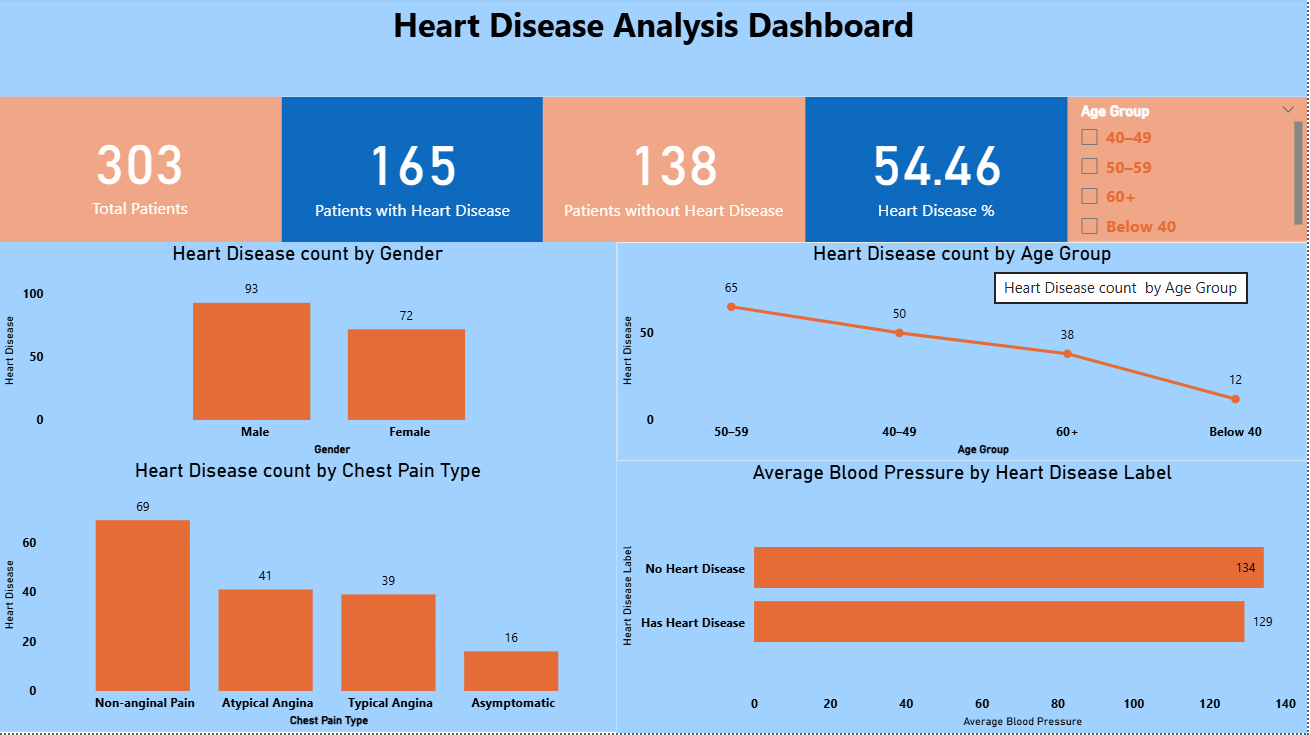

The dashboard page shown, as its layout file describes it:
{"tool":"powerbi","page":{"name":"Dashbaord","canvas":[1280,720],"ordinal":1},"visuals":[{"type":"card","fields":{"Values":["heart.Total Patients"]},"box":[0,96.8,276.2,143],"z":0},{"type":"card","fields":{"Values":["heart.Patients with Heart Disease"]},"box":[275.8,97.4,256.6,142.7],"z":1000},{"type":"card","fields":{"Values":["heart.Patients without Heart Disease"]},"box":[532.4,97.4,256.6,142.7],"z":2000},{"type":"card","fields":{"Values":["heart.Heart Disease %"]},"box":[789,97.4,256.6,142.7],"z":3000},{"type":"clusteredColumnChart","title":"Heart Disease count by Gender","fields":{"Category":["heart.Gender"],"Y":["heart.Patients with Heart Disease"]},"box":[0,240.1,603.8,214.1],"z":4000},{"type":"lineChart","title":"Heart Disease count  by Age Group","fields":{"Category":["heart.Age Group"],"Y":["heart.Patients with Heart Disease"]},"box":[603.8,240.1,676.5,214.1],"z":5000},{"type":"clusteredColumnChart","title":"Heart Disease count by Chest Pain Type","fields":{"Category":["heart.Chest Pain Type"],"Y":["heart.Patients with Heart Disease"]},"box":[0,452.9,604.4,266.4],"z":6000},{"type":"barChart","fields":{"Category":["heart.Heart Disease Label"],"Y":["heart.Average Blood Pressure"]},"box":[603.8,454.2,676.5,266.2],"z":7000},{"type":"slicer","fields":{"Values":["heart.Age Group"]},"box":[1045.5,97.8,234.8,141.8],"z":8000},{"type":"textbox","box":[0,0,1280.3,97.4],"z":9000}]}

Visuals, with their boxes in screenshot pixels (x1, y1, x2, y2), scaled from the page's 1280x720 canvas onto the 1310x735 screenshot:
card - heart.Total Patients: (x1=0, y1=99, x2=283, y2=245)
card - heart.Patients with Heart Disease: (x1=282, y1=99, x2=545, y2=245)
card - heart.Patients without Heart Disease: (x1=545, y1=99, x2=807, y2=245)
card - heart.Heart Disease %: (x1=807, y1=99, x2=1070, y2=245)
"Heart Disease count by Gender" clusteredColumnChart: (x1=0, y1=245, x2=618, y2=464)
"Heart Disease count  by Age Group" lineChart: (x1=618, y1=245, x2=1309, y2=464)
"Heart Disease count by Chest Pain Type" clusteredColumnChart: (x1=0, y1=462, x2=619, y2=734)
barChart - heart.Heart Disease Label x heart.Average Blood Pressure: (x1=618, y1=464, x2=1309, y2=734)
slicer - heart.Age Group: (x1=1070, y1=100, x2=1309, y2=245)
textbox: (x1=0, y1=0, x2=1309, y2=99)
